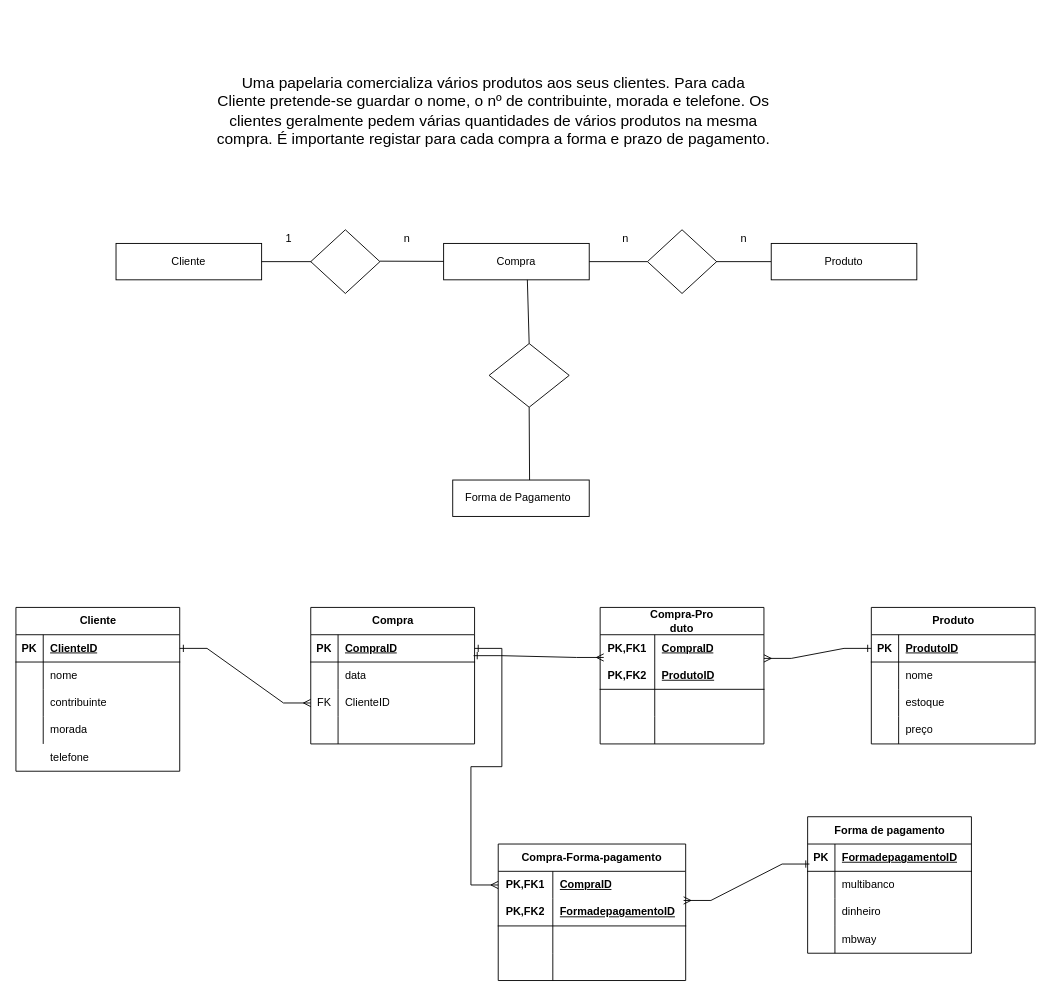
This 1051x996 diagram has some shape labels left out. Each missing label, with the centre of its shape:
Fazer: the point at 345,261
Ter: the point at 682,261
Usar: the point at 528,375
